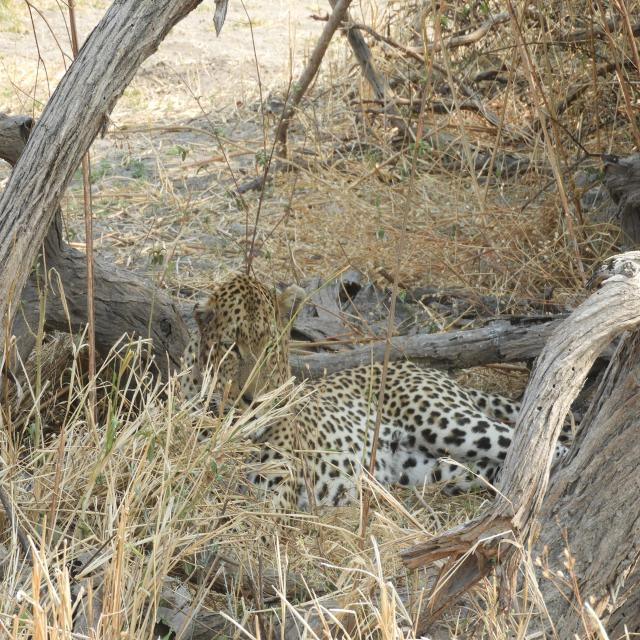Leopard: (159, 268, 587, 538)
